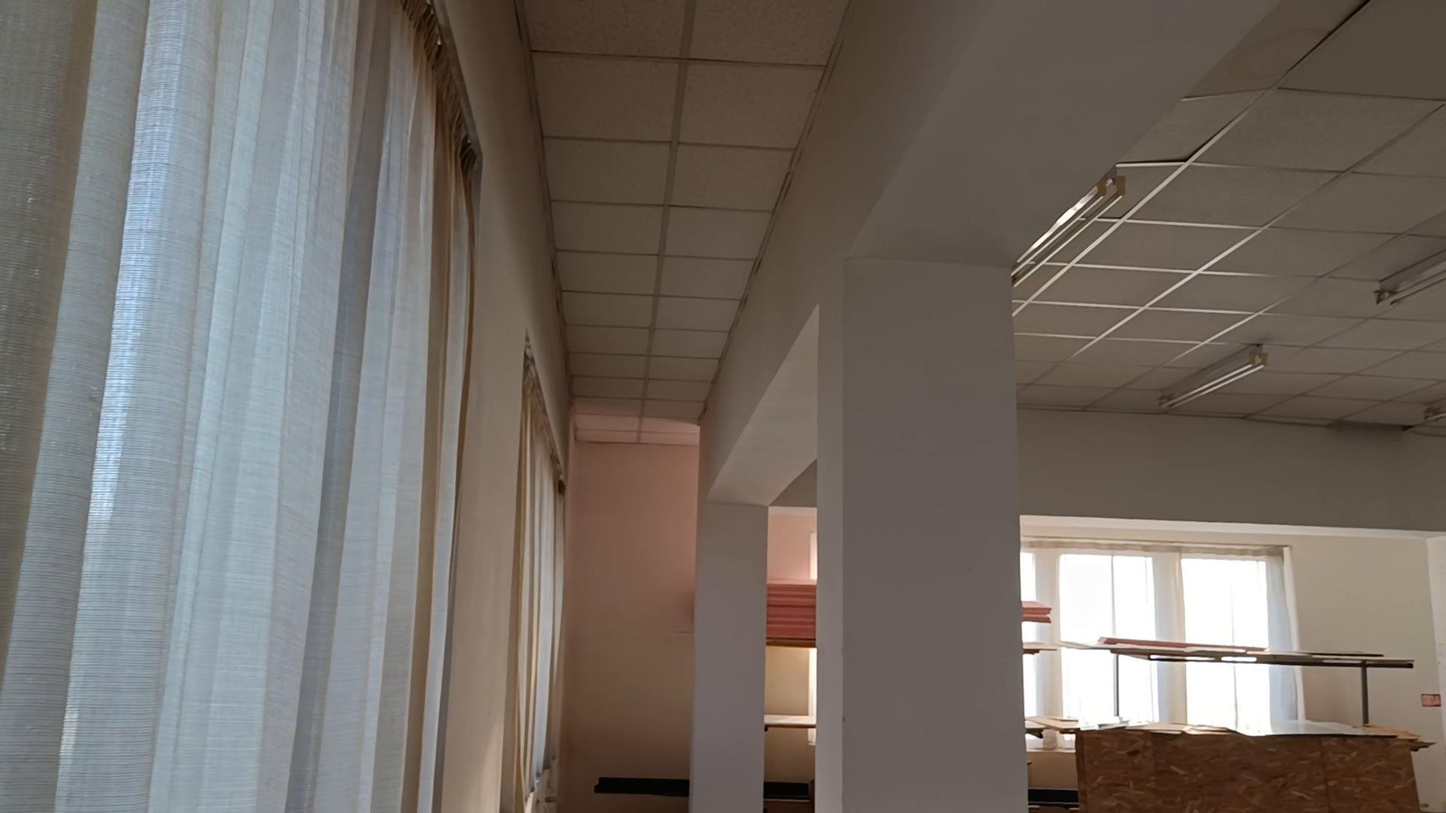ceiling: (1018, 16, 1445, 433), (517, 0, 861, 448)
wall: (695, 0, 1253, 812), (444, 16, 572, 810), (1022, 417, 1445, 531), (564, 438, 690, 812), (1293, 534, 1445, 660)
